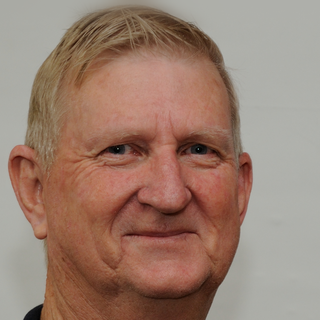eye: (94, 140, 143, 164), (178, 139, 224, 164)
